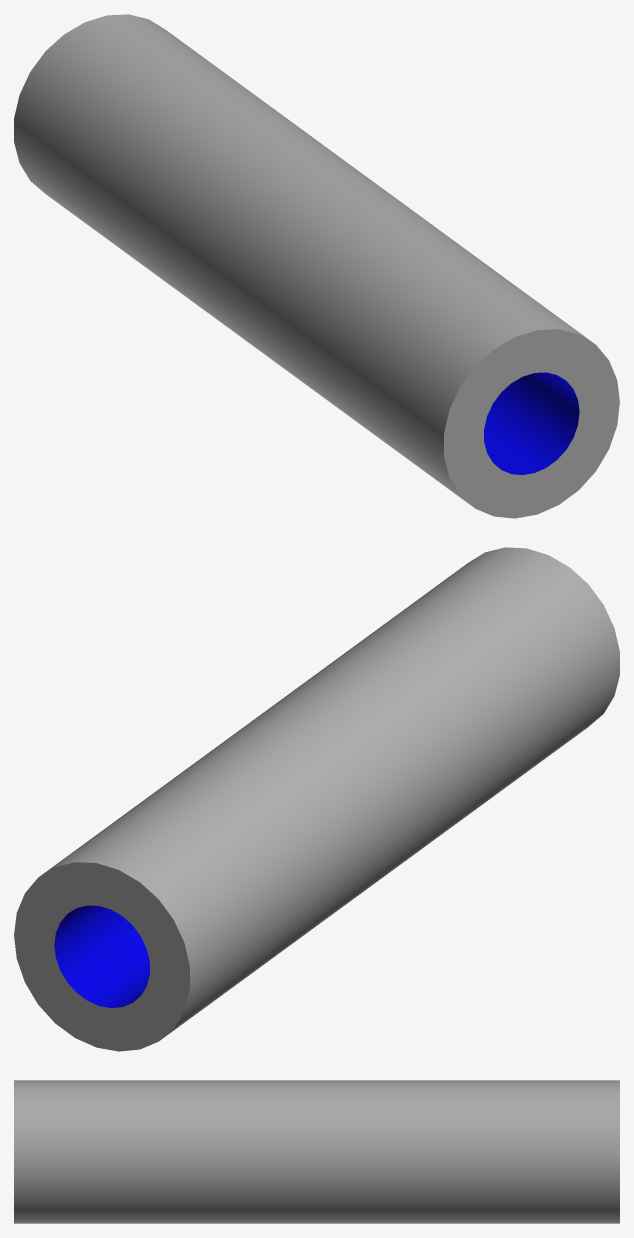
Rendered from Small_Tube_Long.fbx.
The picture shows the model from 3 angles, top to bottom: view 1: azimuth 30°, elevation 25°; view 2: azimuth 150°, elevation 25°; view 3: azimuth 270°, elevation 25°; orthographic projection. The views are drawn at different scales.
Parts seen in each view (by area): view 1: pasted__pCylinder1; view 2: pasted__pCylinder1; view 3: pasted__pCylinder1.
Part boxes in pixels (x1,y1,x2,y2): pasted__pCylinder1: (14, 14, 619, 518); pasted__pCylinder1: (14, 547, 619, 1051); pasted__pCylinder1: (14, 1080, 619, 1223).
Bounding box in the file's own units: 0.9318 × 0.9337 × 3.94.
